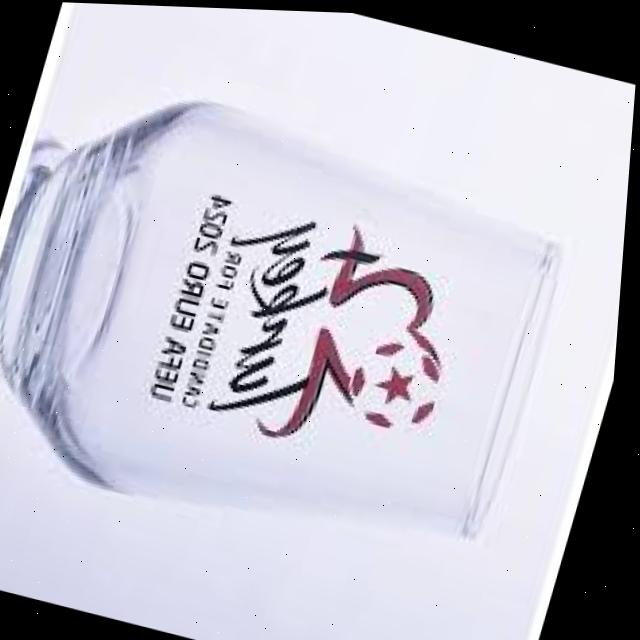Dry: (0, 51, 599, 589)
